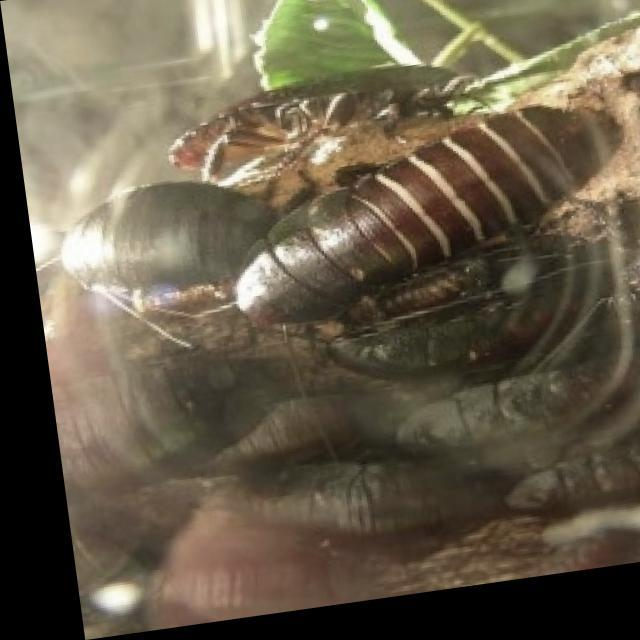cockroach: (219, 81, 624, 353), (133, 45, 500, 197), (61, 176, 292, 306)
